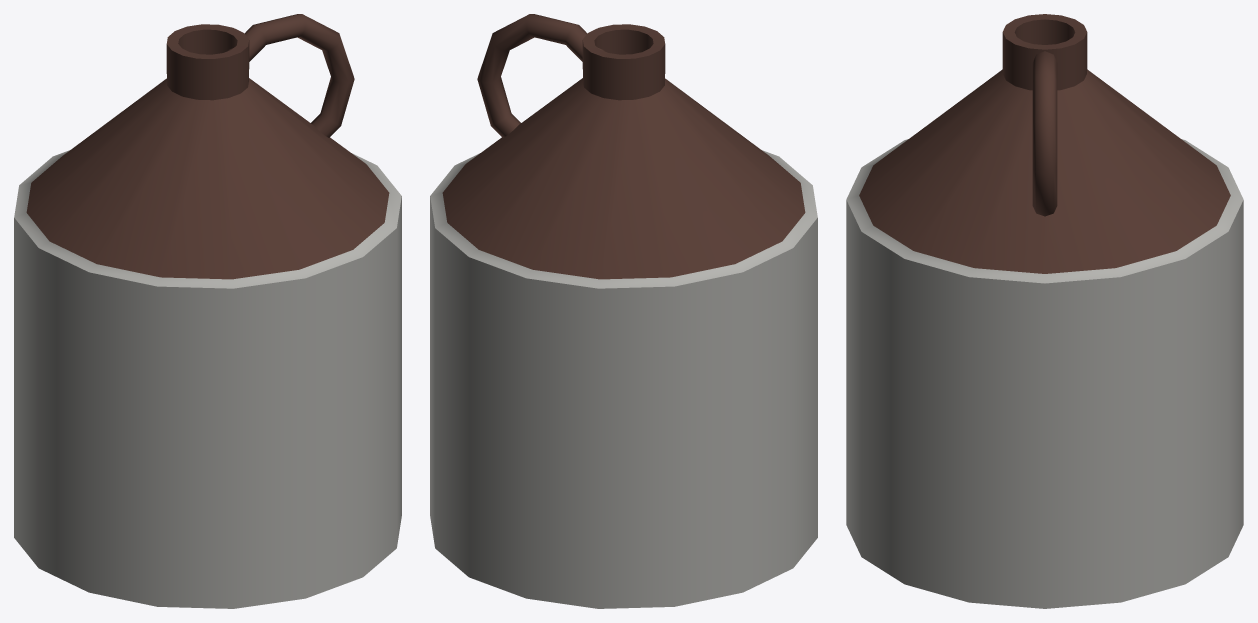
The model's file is SM_Prop_JugMoonshine.fbx.
3 renders of one model, left to right at view 1: azimuth 30°, elevation 25°; view 2: azimuth 150°, elevation 25°; view 3: azimuth 270°, elevation 25°, orthographic.
Parts seen in each view (by area): view 1: SM_Prop_JugMoonshine; view 2: SM_Prop_JugMoonshine; view 3: SM_Prop_JugMoonshine.
Boxes of the visible parts, x1,y1,x2,y2 form: SM_Prop_JugMoonshine: [14, 14, 401, 608]; SM_Prop_JugMoonshine: [430, 14, 817, 608]; SM_Prop_JugMoonshine: [846, 14, 1243, 608].
Size of the model in its own units: 16 by 22.12 by 16.
